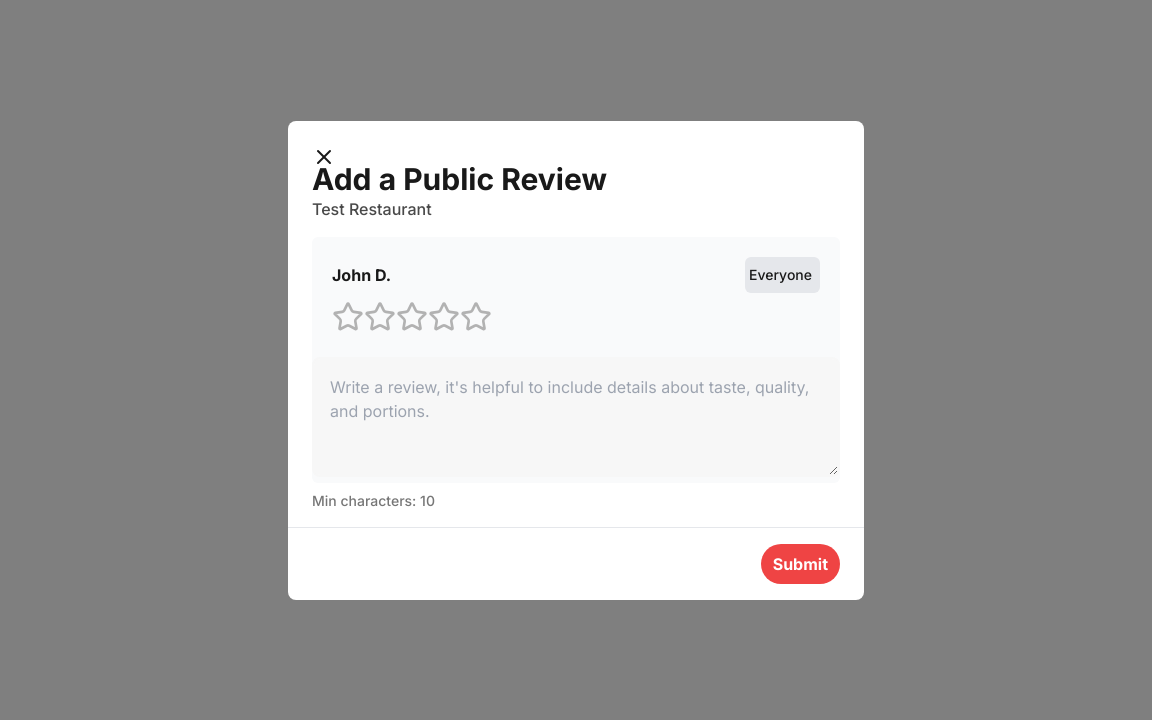
Test case: ReviewDialog › Review Text › should show helpful tip when text is 10+ characters
Replace the text in the text box with placeholder "Write a review" with "This is a good review text": x=576, y=416 x1=312 y1=356 x2=840 y2=476
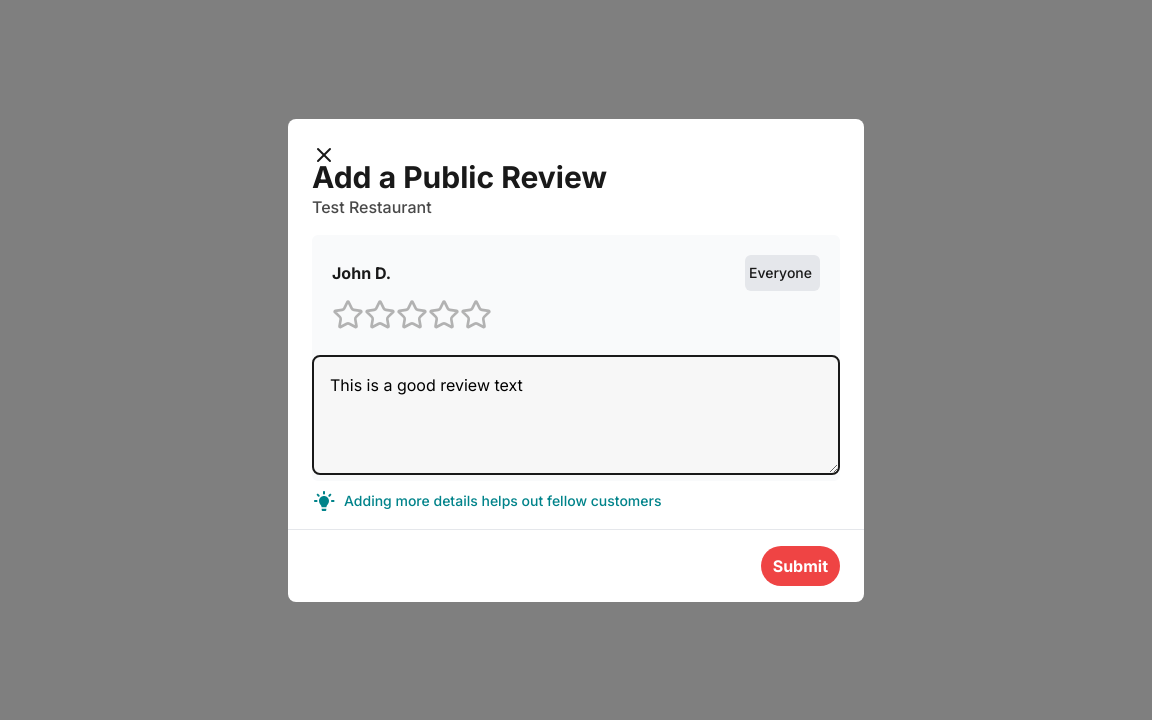
Expected: the text "Adding more details helps out fellow customers" is shown, x1=344 y1=490 x2=662 y2=510
